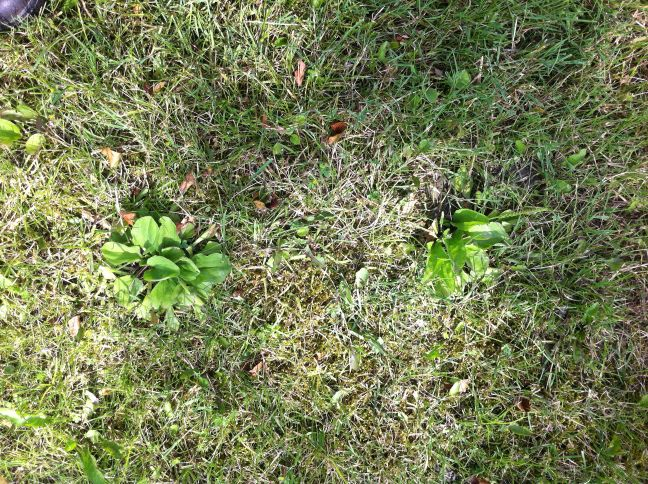weed1: (102, 212, 234, 307), (412, 209, 510, 296)
